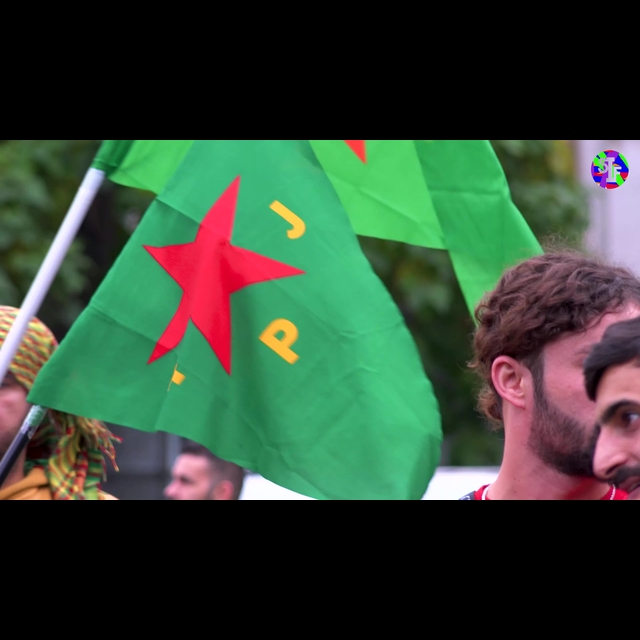YPJ: (138, 193, 343, 405)
